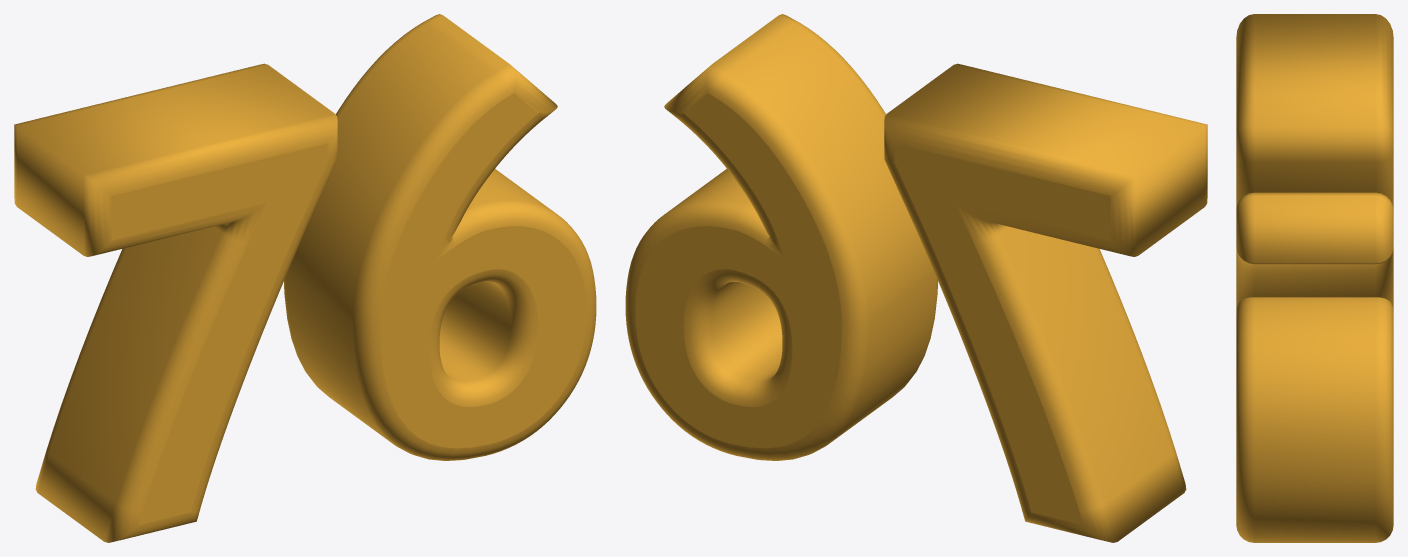
3 renders of one model, left to right at view 1: azimuth 30°, elevation 25°; view 2: azimuth 150°, elevation 25°; view 3: azimuth 270°, elevation 25°, orthographic. The views are drawn at different scales.
Parts seen in each view (by area): view 1: Text; view 2: Text; view 3: Text.
Boxes of the visible parts, x1,y1,x2,y2 form: Text: (14, 14, 596, 542); Text: (625, 14, 1207, 542); Text: (1236, 14, 1393, 542).
Size of the model in its own units: 88.22 by 63.4 by 26.
